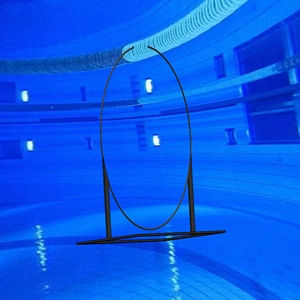circle: (75, 45, 228, 246)
